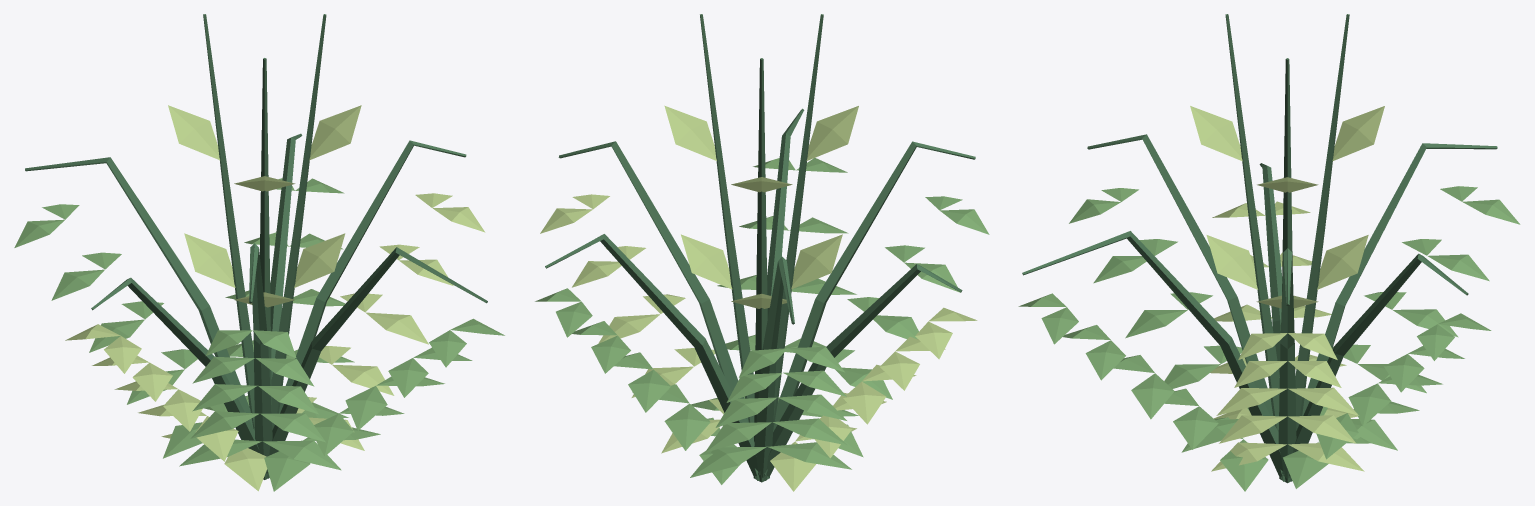
The model's file is fern_v03.glb.
3 views of the same model, side by side, from view 1: azimuth 30°, elevation 25°; view 2: azimuth 150°, elevation 25°; view 3: azimuth 270°, elevation 25° (orthographic).
Parts seen in each view (by area): view 1: Wildwuchs_deep_nocol, Wildwuchs_green_nocol, Wildwuchs_tip_nocol; view 2: Wildwuchs_deep_nocol, Wildwuchs_green_nocol, Wildwuchs_tip_nocol; view 3: Wildwuchs_deep_nocol, Wildwuchs_green_nocol, Wildwuchs_tip_nocol.
Boxes of the visible parts, bbox=[...] form: Wildwuchs_deep_nocol: bbox=[25, 14, 487, 479]; Wildwuchs_green_nocol: bbox=[14, 178, 504, 491]; Wildwuchs_tip_nocol: bbox=[65, 105, 485, 491]; Wildwuchs_deep_nocol: bbox=[545, 14, 975, 482]; Wildwuchs_green_nocol: bbox=[535, 158, 989, 484]; Wildwuchs_tip_nocol: bbox=[540, 105, 977, 491]; Wildwuchs_deep_nocol: bbox=[1022, 14, 1497, 483]; Wildwuchs_green_nocol: bbox=[1018, 186, 1520, 491]; Wildwuchs_tip_nocol: bbox=[1190, 106, 1384, 471].
Size of the model in its own units: 2.46 by 2.7 by 2.73.
